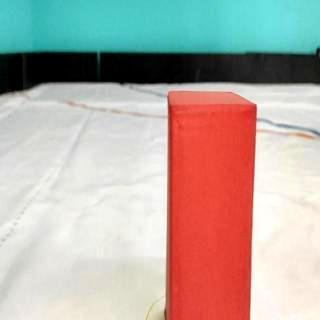redbox: (168, 91, 251, 320)
